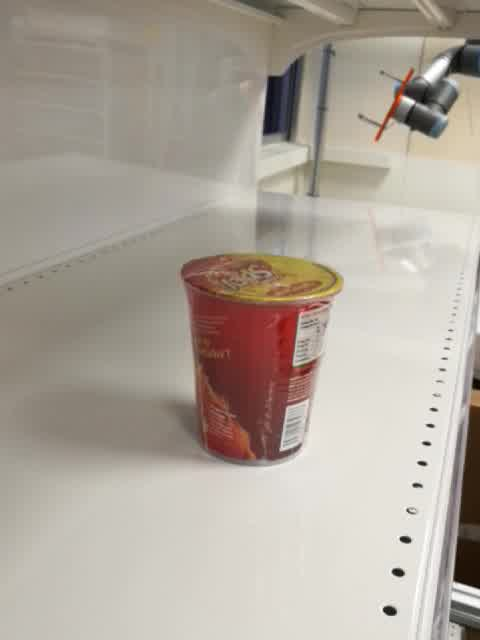maggi: (176, 248, 346, 468)
